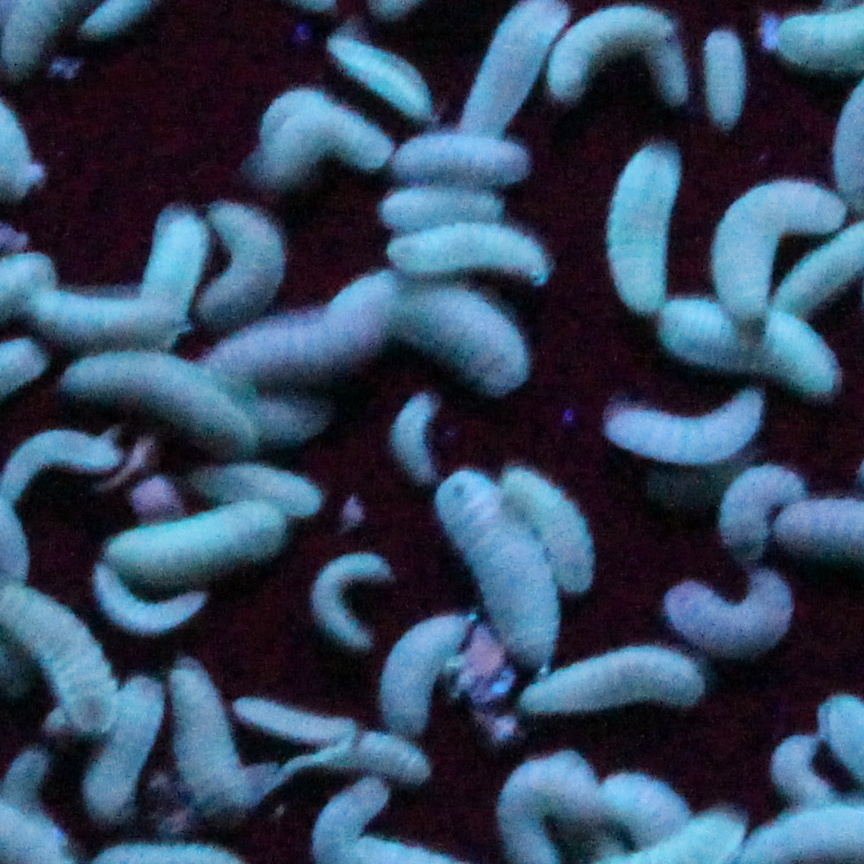larve: (436, 476, 560, 658), (68, 350, 244, 457), (362, 284, 520, 399), (236, 284, 400, 383), (1, 586, 116, 726), (718, 171, 824, 312), (598, 388, 764, 467), (507, 469, 609, 591), (169, 659, 248, 814), (529, 649, 714, 715), (608, 135, 676, 314), (664, 570, 801, 654), (551, 3, 676, 95), (372, 616, 473, 729), (204, 198, 290, 317), (268, 98, 393, 178), (332, 34, 440, 123), (89, 682, 159, 814), (87, 570, 216, 638), (107, 527, 285, 575), (302, 556, 386, 650), (30, 285, 159, 344), (389, 239, 554, 282), (137, 207, 205, 308), (243, 695, 356, 755), (394, 134, 531, 183), (376, 182, 513, 224), (722, 470, 793, 547), (670, 308, 759, 358), (708, 24, 742, 126)
